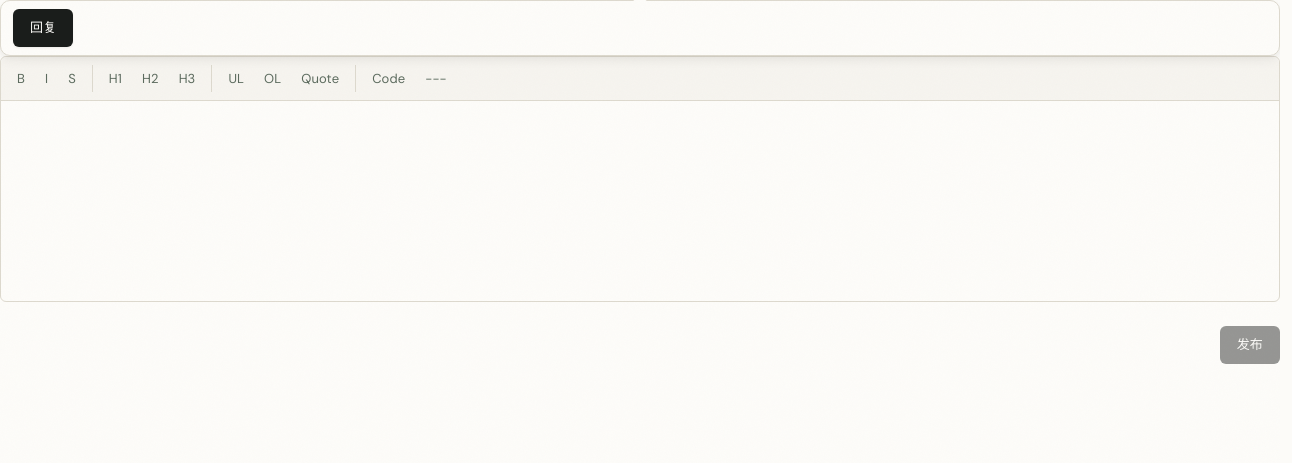
Test case: NodeActionToolbar › should enter reply mode and allow clearing the target
Click the button "回复".
click(43, 28)  # box [13, 9, 73, 46]
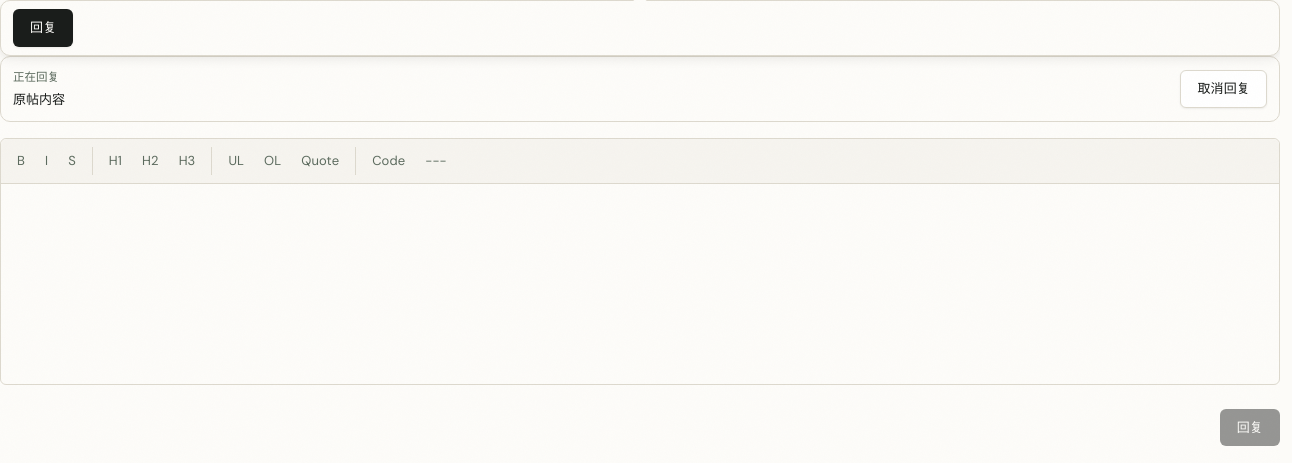
Expected: the text "正在回复" is shown, [13, 68, 65, 86]
Expected: the text "原帖内容" is shown, [13, 90, 65, 109]
Expected: the button "取消回复" is shown
Click the button "取消回复".
click(1224, 89)  # box [1180, 70, 1267, 108]
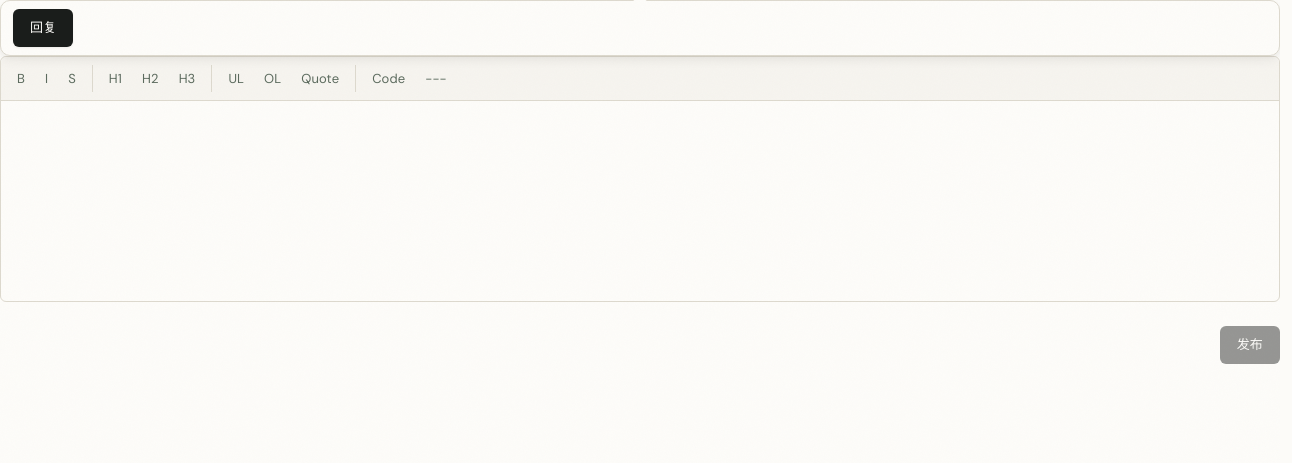
Expected: the text "正在回复" is gone
